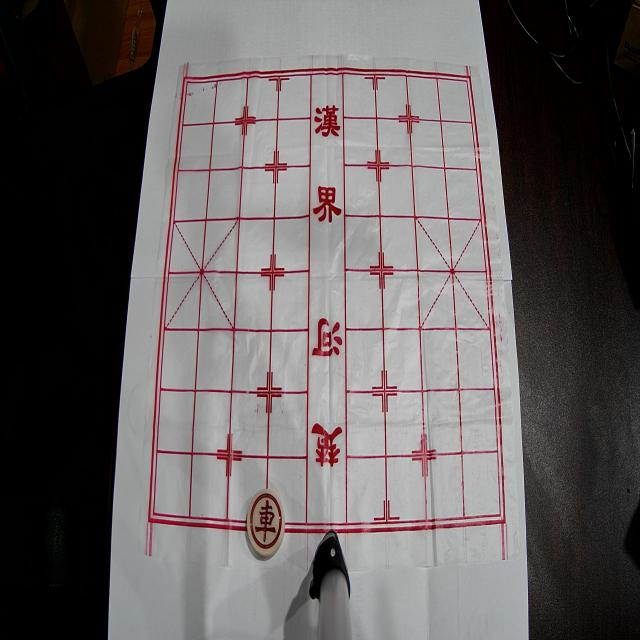red-chariot: (247, 489, 285, 557)
